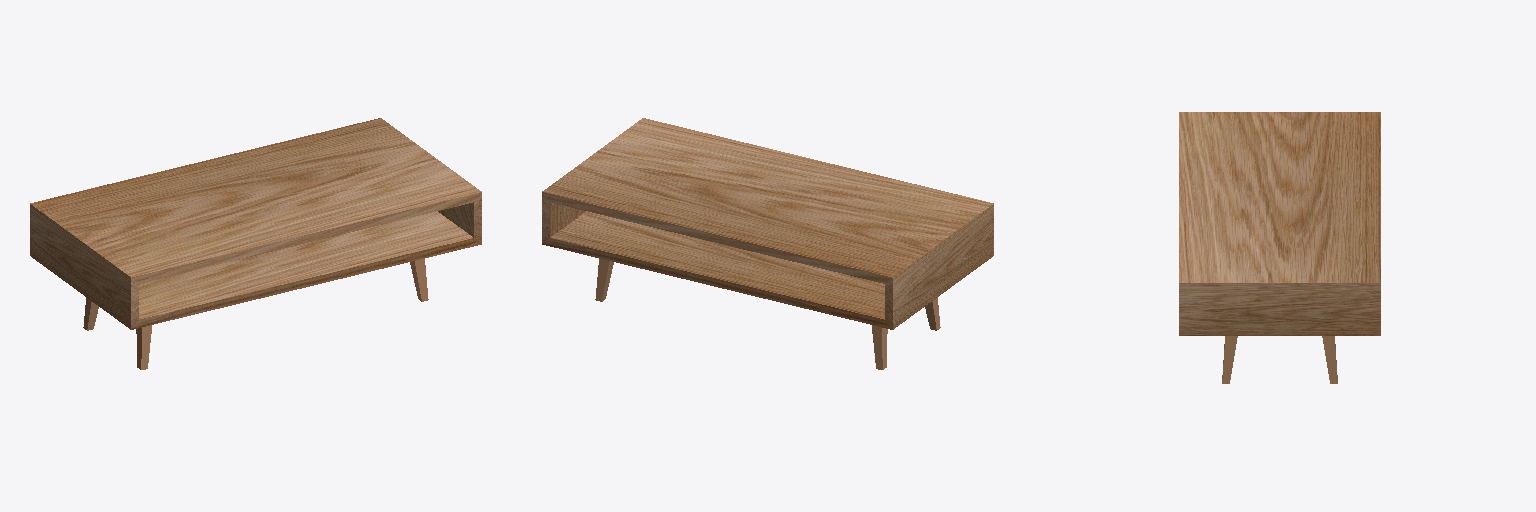
The picture shows the model from 3 angles: view 1: azimuth 30°, elevation 25°; view 2: azimuth 150°, elevation 25°; view 3: azimuth 270°, elevation 25°; orthographic projection.
Parts seen in each view (by area): view 1: table.1; view 2: table.1; view 3: table.1.
Part boxes in pixels (bbox=[...]): table.1: bbox=[30, 118, 481, 369]; table.1: bbox=[542, 118, 993, 369]; table.1: bbox=[1179, 112, 1380, 383].
Bounding box in the file's own units: 140 × 44.44 × 70.
1 materials, 1 textured.